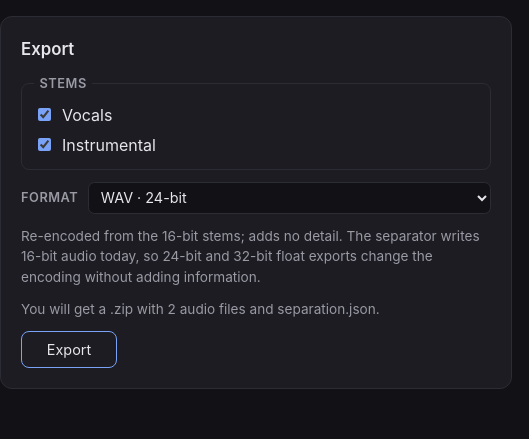
ExportPanel download › confirms the download by the filename the server offered
What coordinates should you click on to do the following:
click the button "Export"
I would click on:
 (69, 350)
Its box is [21,331,117,368].
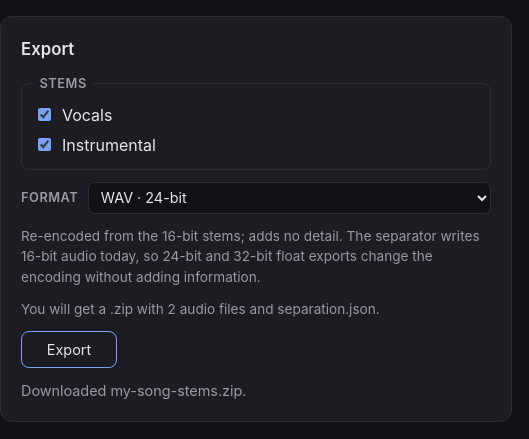
Check: the text "Downloaded my-song-stems.zip." is shown, box [21,382,246,399]
